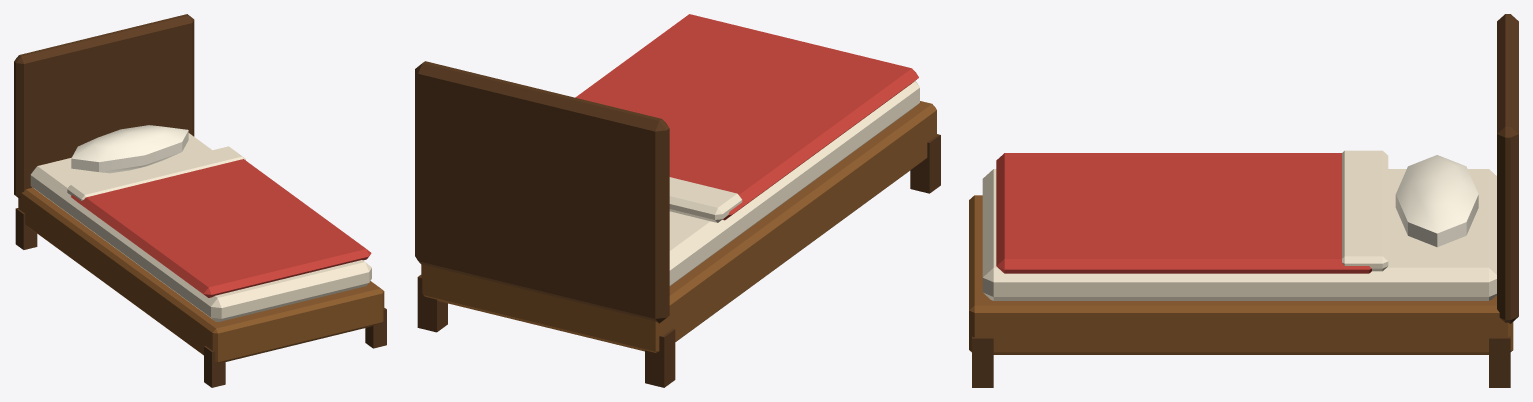
The model's file is PR_Furniture_Yatak_T2.fbx.
The picture shows the model from 3 angles, left to right: view 1: azimuth 30°, elevation 25°; view 2: azimuth 150°, elevation 25°; view 3: azimuth 270°, elevation 25°; orthographic projection. The views are drawn at different scales.
Parts seen in each view (by area): view 1: PR_Furniture_Yatak_T2; view 2: PR_Furniture_Yatak_T2; view 3: PR_Furniture_Yatak_T2.
Boxes of the visible parts, x1,y1,x2,y2 form: PR_Furniture_Yatak_T2: [14, 14, 386, 387]; PR_Furniture_Yatak_T2: [415, 14, 940, 387]; PR_Furniture_Yatak_T2: [969, 14, 1518, 387].
Bounding box in the file's own units: 1.04 × 1.05 × 2.02.
